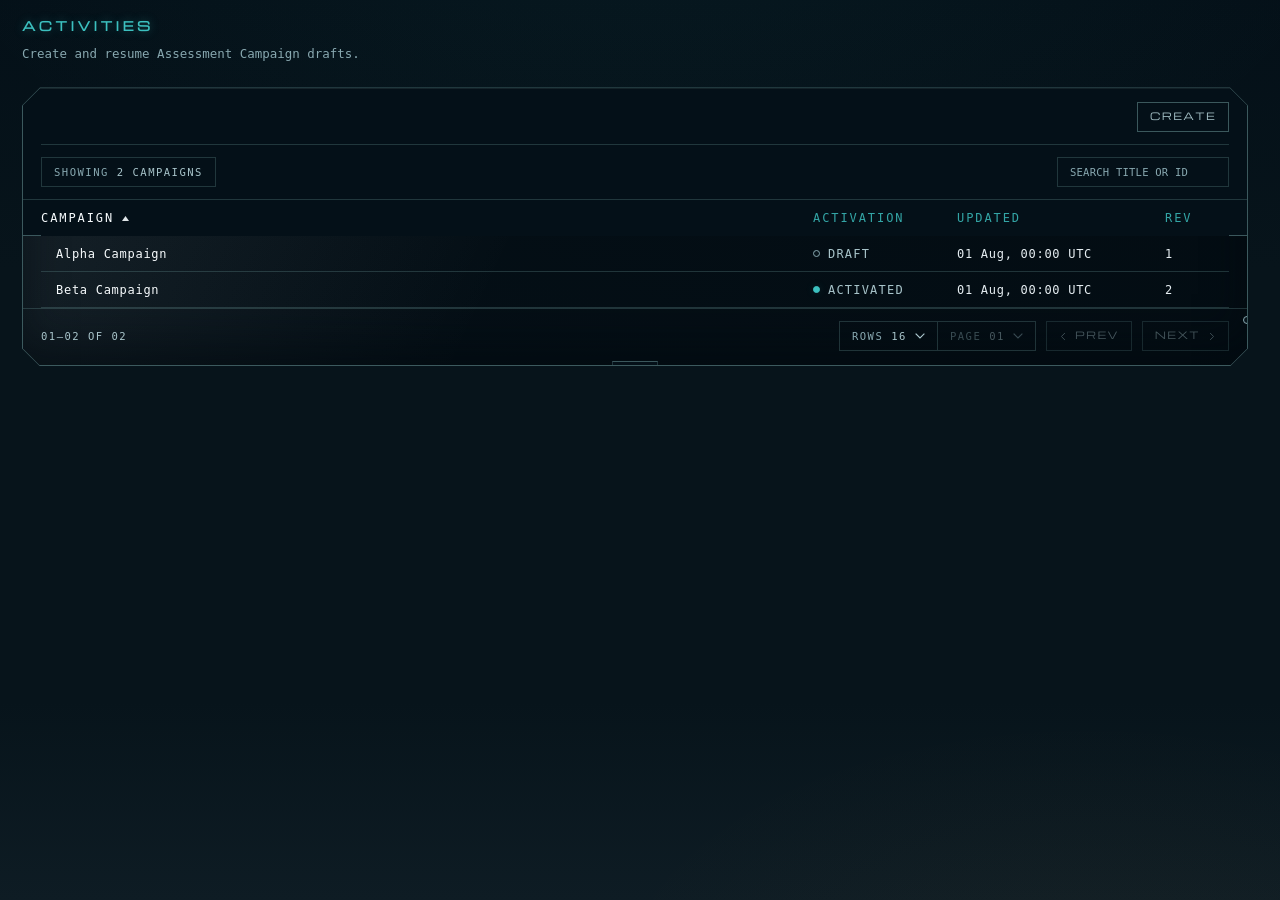
AssessmentActivitiesPage › filters campaigns by activity id
Expected: the link "Alpha Campaign" is shown, [56,247,167,261]
In the search field named "Search campaign title or ID": (1143, 172) [1058,158,1228,186], type "act-beta"
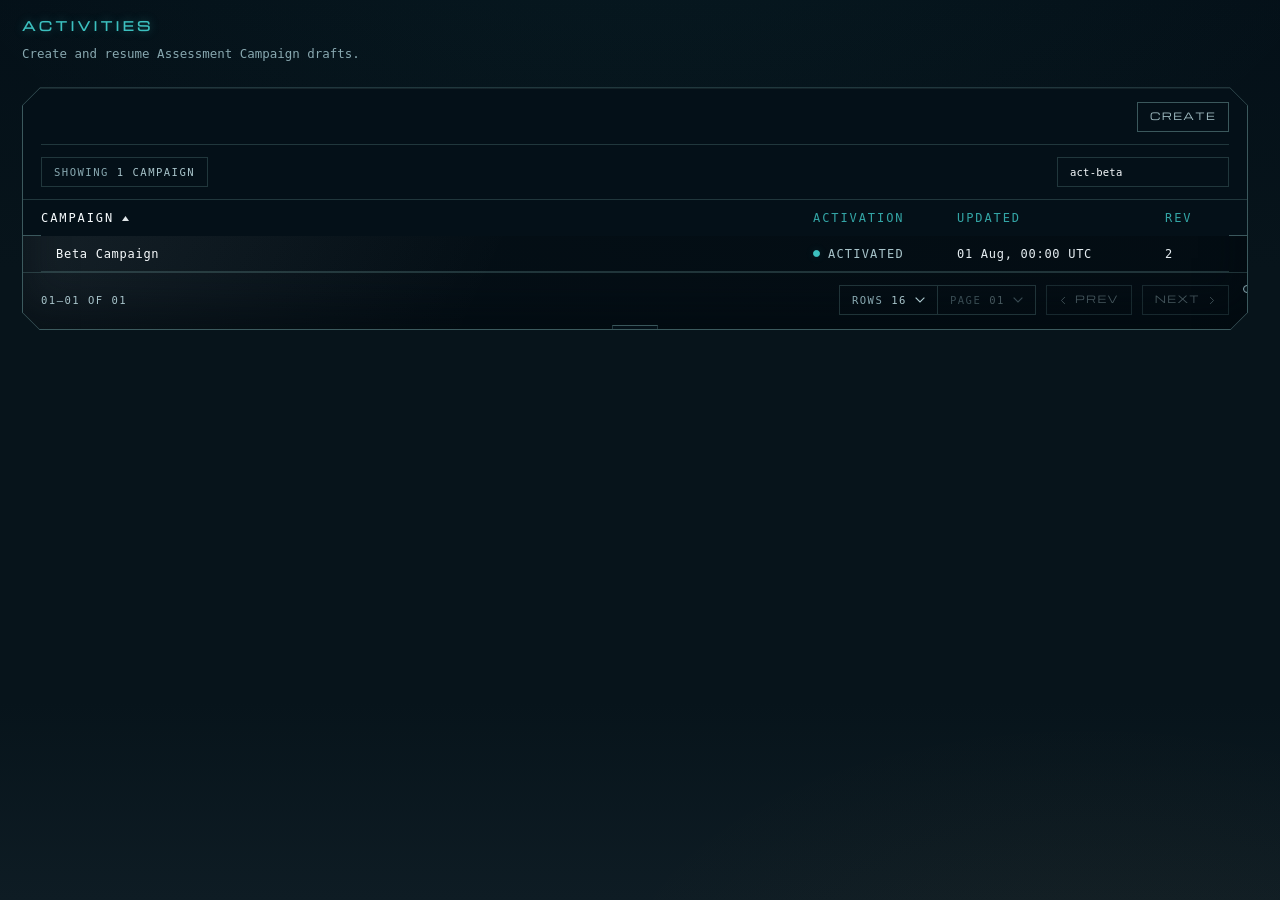
Expected: the link "Beta Campaign" is shown, [56,247,159,261]
Expected: the link "Alpha Campaign" is gone
